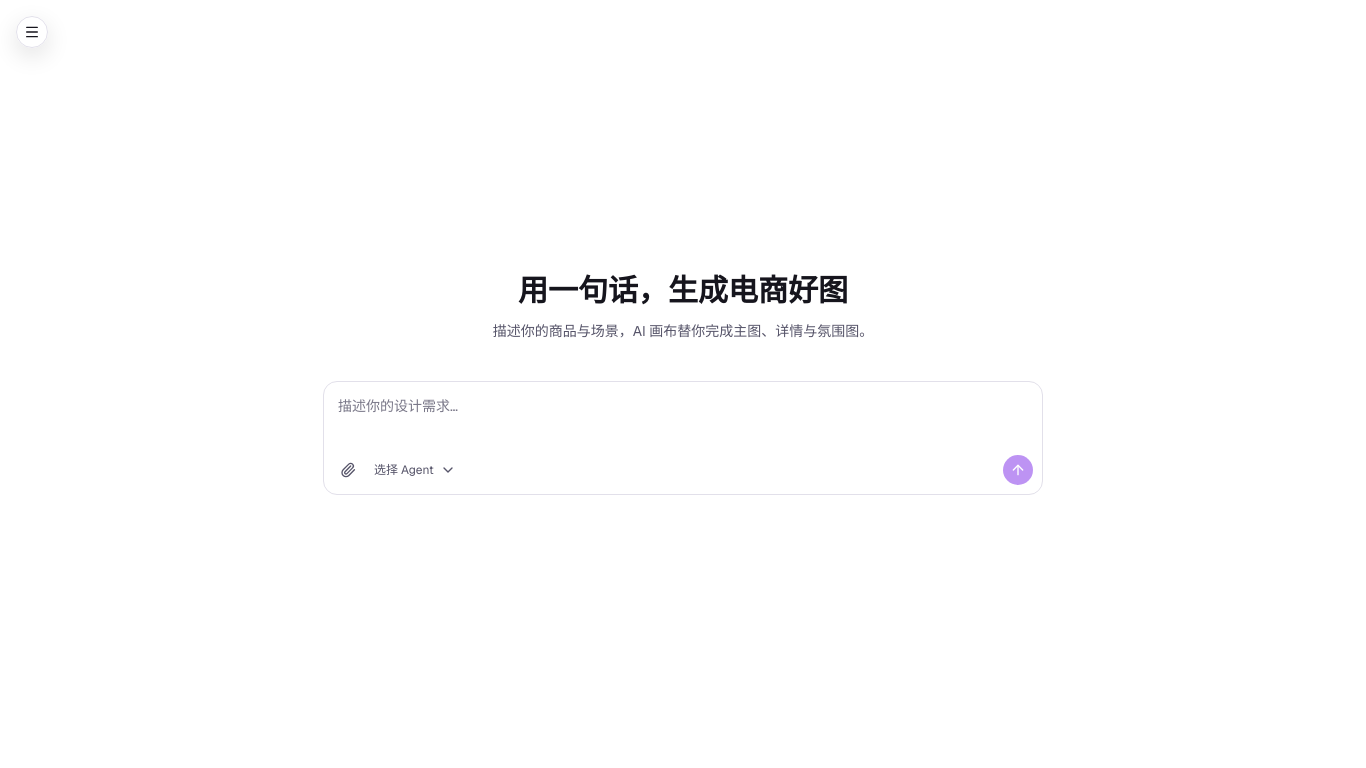
窄屏（<768px）侧栏 › 平铺全部层级（无展开控件、不叠浮层），切主区视图后自动收起
Click the button with test id "sidebar-open-button": (32, 32) x1=16 y1=16 x2=48 y2=48
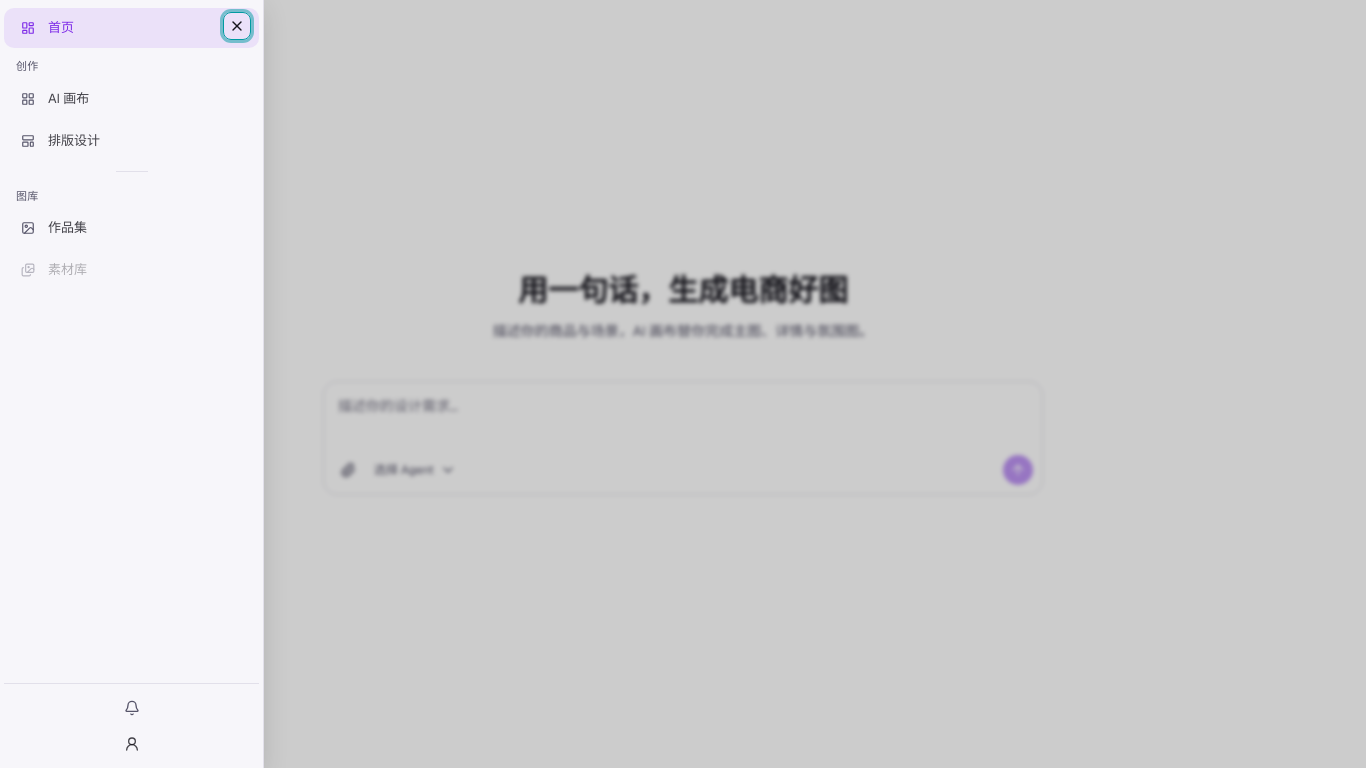
Check: the text "创作" is shown, box x1=16 y1=59 x2=39 y2=73
Check: the text "图库" is shown, box x1=16 y1=188 x2=39 y2=202
Check: the link with test id "nav-canvas" is shown, box x1=21 y1=90 x2=89 y2=107
Click the button with test id "nav-portfolio": (132, 228) x1=4 y1=208 x2=259 y2=248
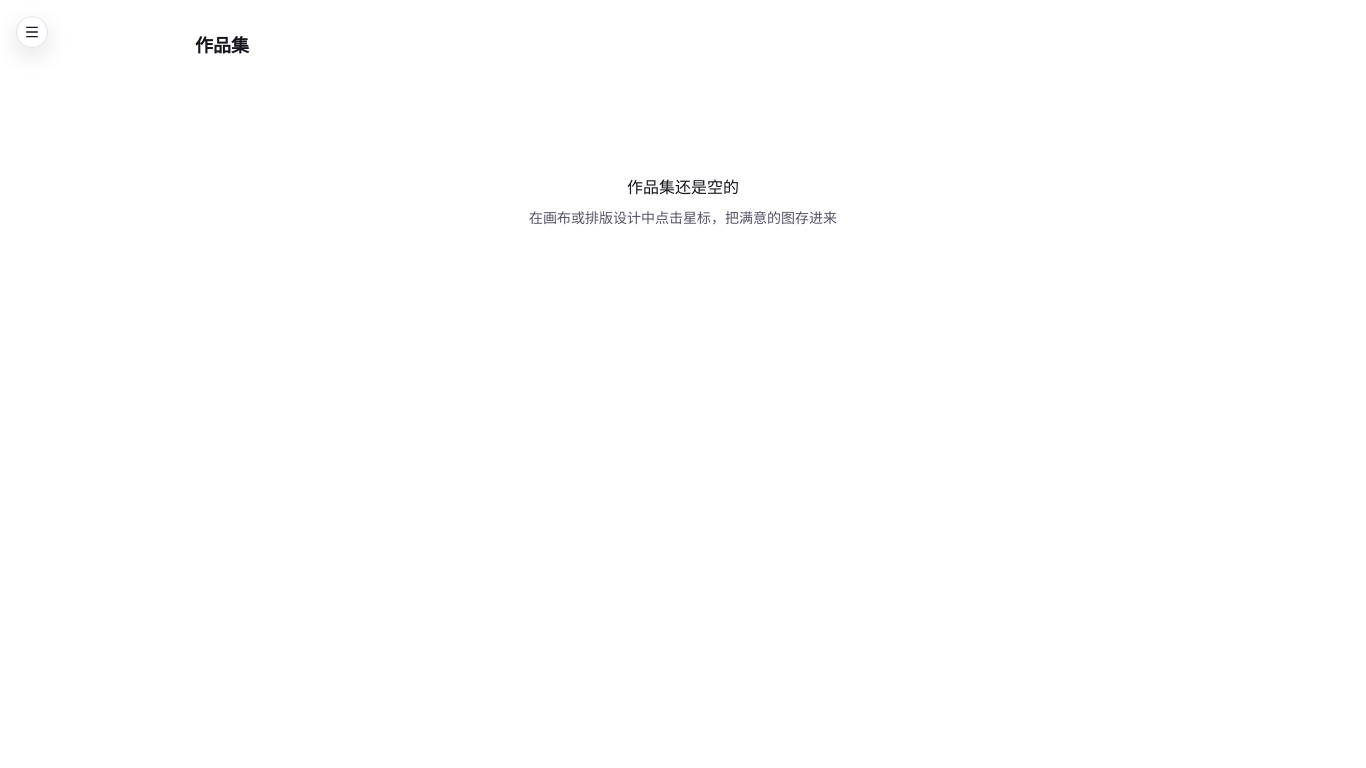
Check: the text "作品集还是空的" is shown, box x1=627 y1=176 x2=739 y2=200
Check: the button with test id "nav-home" is gone
